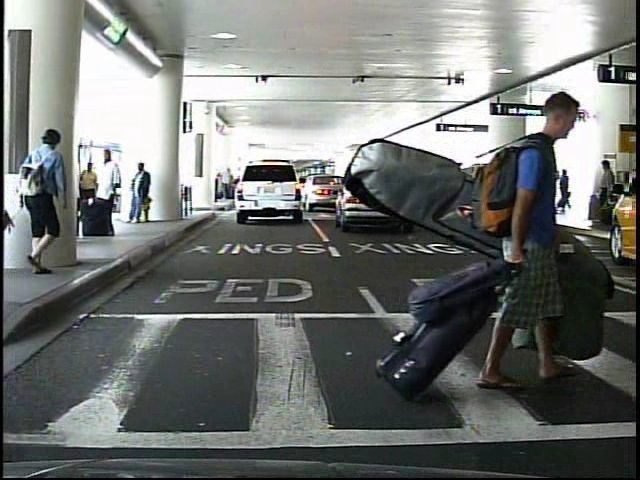person: (472, 85, 583, 390), (17, 129, 66, 275), (93, 146, 120, 239), (127, 161, 153, 228), (593, 158, 616, 225), (76, 158, 97, 231), (557, 169, 570, 214), (550, 164, 558, 212)
